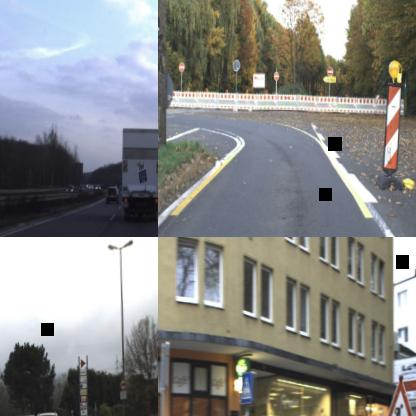CONSTRUCTION: (379, 376, 416, 416)
NO ENTRY: (178, 61, 184, 71), (326, 66, 332, 76), (273, 71, 279, 81)
no trucks: (118, 377, 126, 390)
